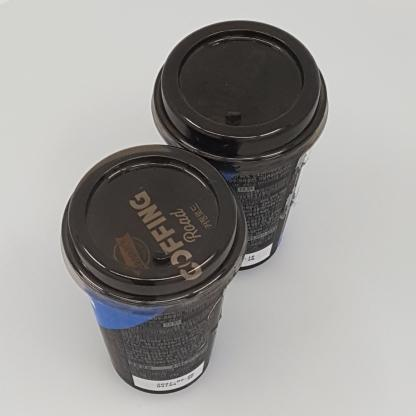---------: (60, 144, 247, 395), (151, 20, 329, 272)
